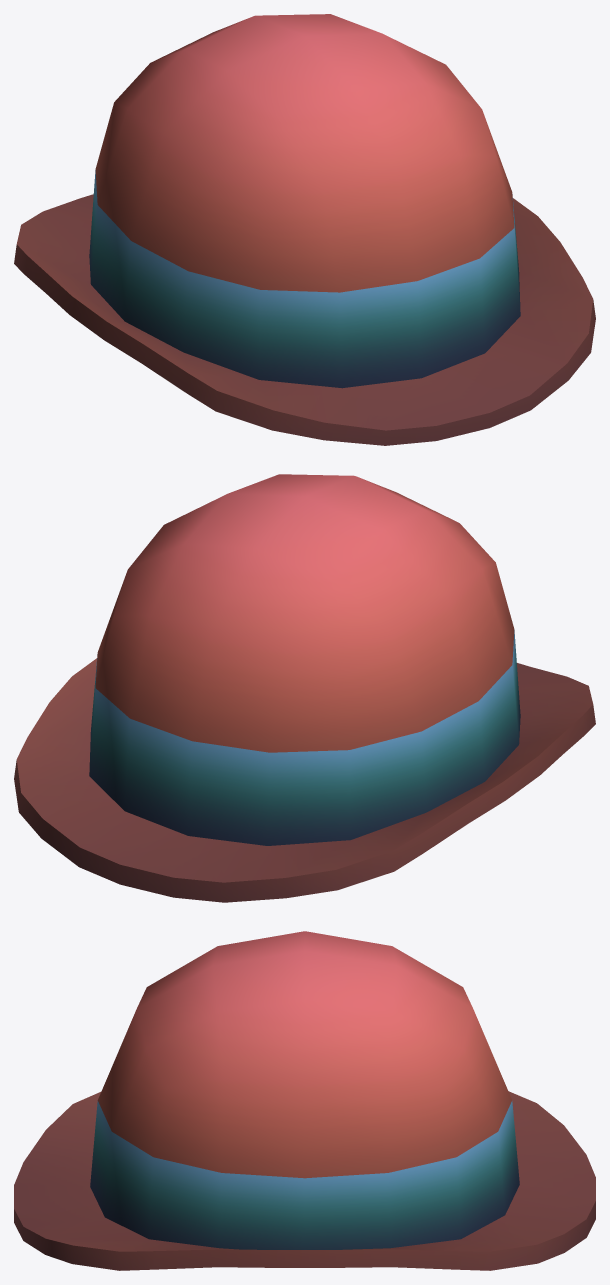
Rendered from SM_Bowlerhat.fbx.
The picture shows the model from 3 angles, top to bottom: view 1: azimuth 30°, elevation 25°; view 2: azimuth 150°, elevation 25°; view 3: azimuth 270°, elevation 25°; orthographic projection. The views are drawn at different scales.
Visible parts, largest first — view 1: SM_BowlerHat; view 2: SM_BowlerHat; view 3: SM_BowlerHat.
Boxes of the visible parts, bbox=[...] form: SM_BowlerHat: bbox=[14, 14, 595, 445]; SM_BowlerHat: bbox=[14, 474, 595, 902]; SM_BowlerHat: bbox=[14, 931, 595, 1270].
Size of the model in its own units: 40.32 by 24.92 by 50.67.
